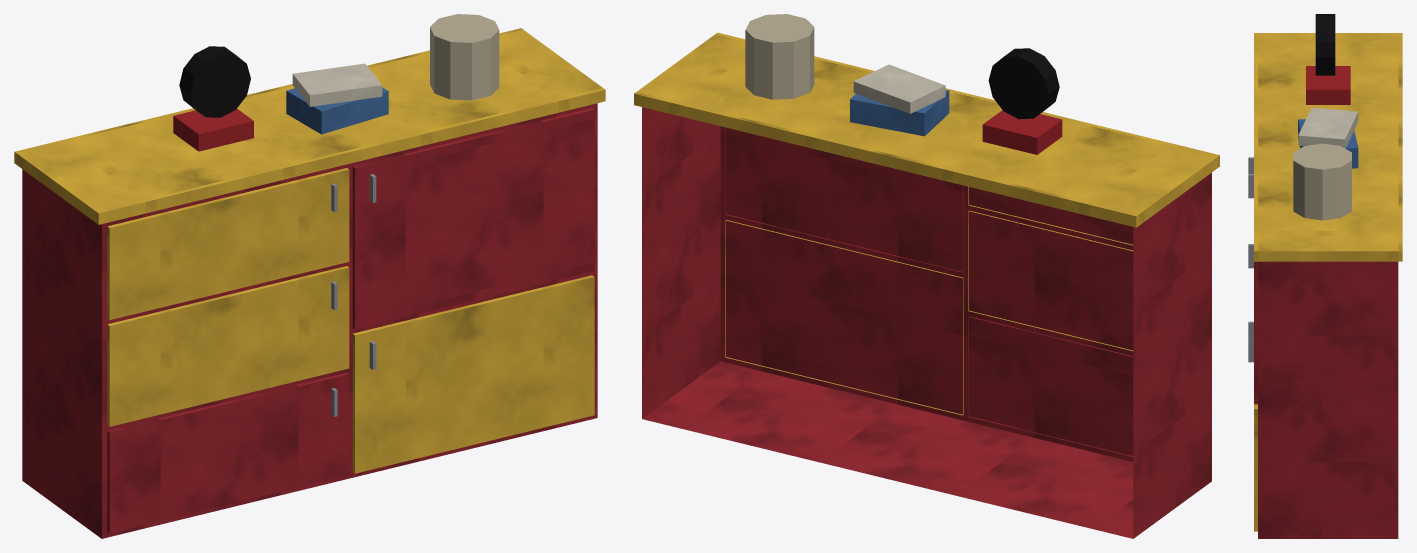
File: Cabinet.obj
3 renders of one model, left to right at view 1: azimuth 30°, elevation 25°; view 2: azimuth 150°, elevation 25°; view 3: azimuth 270°, elevation 25°, orthographic. The views are drawn at different scales.
Parts seen in each view (by area): view 1: doors, top, body, heater, basket, books, handles; view 2: body, top, heater, basket, books, doors; view 3: body, top, basket, heater, books, doors, handles.
Boxes of the visible parts, left/top/right/bottom form: doors: left=107, top=108, right=594, bottom=533; top: left=14, top=28, right=605, bottom=224; body: left=22, top=103, right=597, bottom=538; heater: left=173, top=46, right=253, bottom=151; basket: left=430, top=14, right=499, bottom=100; books: left=286, top=63, right=388, bottom=134; handles: left=331, top=174, right=376, bottom=416; body: left=642, top=107, right=1211, bottom=538; top: left=634, top=32, right=1219, bottom=227; heater: left=982, top=48, right=1062, bottom=154; basket: left=745, top=14, right=814, bottom=99; books: left=850, top=64, right=949, bottom=136; doors: left=725, top=127, right=1133, bottom=456; body: left=1258, top=261, right=1398, bottom=538; top: left=1254, top=33, right=1402, bottom=261; basket: left=1293, top=143, right=1351, bottom=220; heater: left=1306, top=14, right=1350, bottom=104; books: left=1298, top=107, right=1358, bottom=168; doors: left=1254, top=261, right=1257, bottom=531; handles: left=1248, top=157, right=1253, bottom=362.
Bounding box in the file's own units: 1.84 × 1.47 × 0.55.
8 materials, 4 textured.
